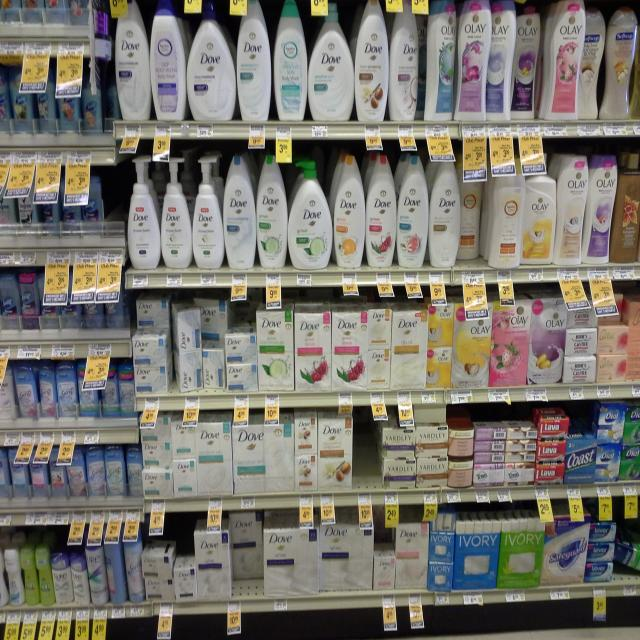unorganised: (422, 1, 544, 120), (582, 8, 640, 121), (167, 304, 226, 390), (387, 3, 420, 121), (396, 155, 428, 268), (459, 155, 491, 267), (37, 169, 77, 235), (230, 514, 262, 596), (81, 61, 111, 133), (67, 446, 105, 496), (614, 511, 640, 582), (140, 541, 177, 580), (36, 76, 57, 135), (70, 557, 90, 604), (36, 368, 56, 412)
